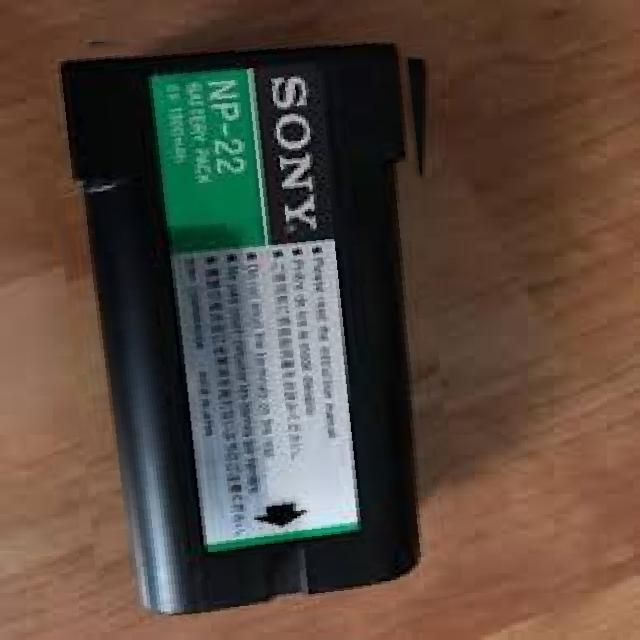Battery: (39, 17, 492, 624)
